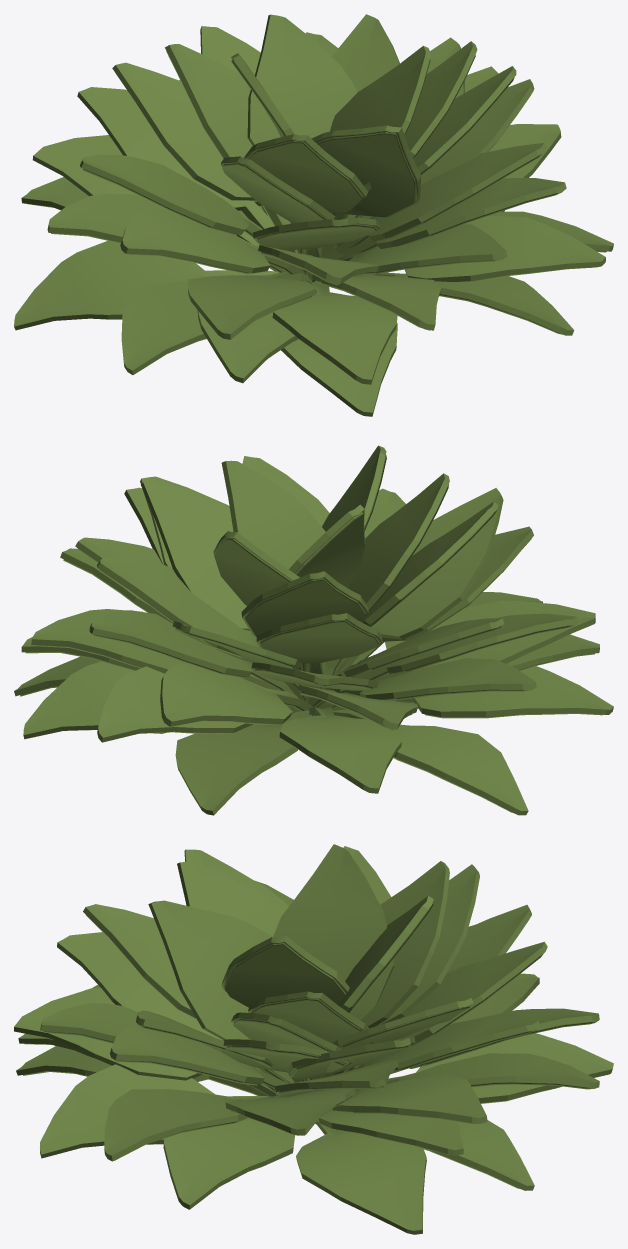
File: NN_porcelainberry_vines.fbx
3 views of the same model, one above another, from view 1: azimuth 30°, elevation 25°; view 2: azimuth 150°, elevation 25°; view 3: azimuth 270°, elevation 25° (orthographic). The views are drawn at different scales.
Parts seen in each view (by area): view 1: NN_porcelainberry_vines; view 2: NN_porcelainberry_vines; view 3: NN_porcelainberry_vines.
Boxes of the visible parts, x1,y1,x2,y2 form: NN_porcelainberry_vines: [14, 14, 613, 416]; NN_porcelainberry_vines: [14, 445, 613, 815]; NN_porcelainberry_vines: [14, 844, 613, 1234].
Bounding box in the file's own units: 5.88 × 2.75 × 5.99.
